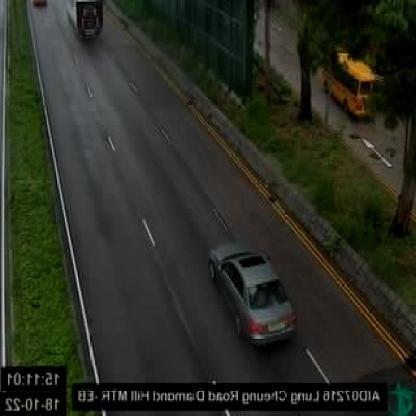Bus: (323, 47, 382, 122)
Car: (207, 242, 298, 351)
Truck: (62, 0, 106, 45)
